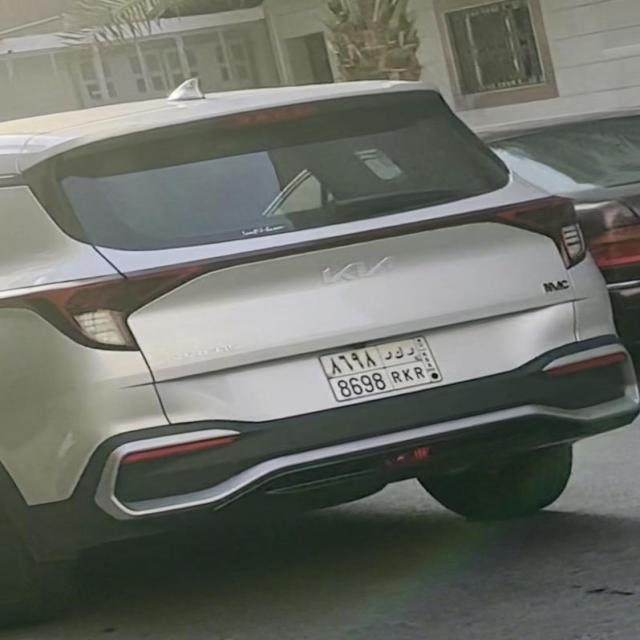Car-plate: (303, 327, 468, 414)
